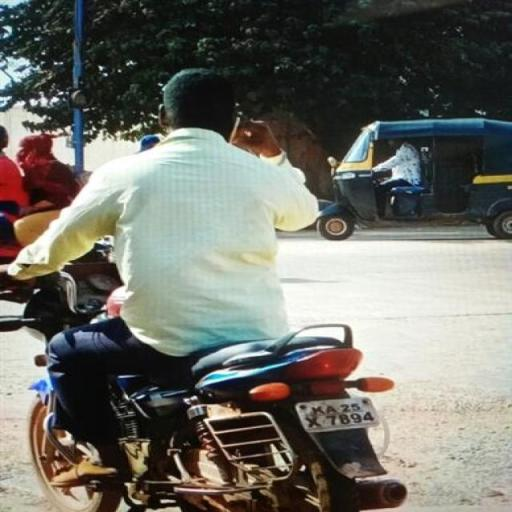numberplate: (296, 386, 386, 440)
using mobile: (228, 112, 260, 150)
